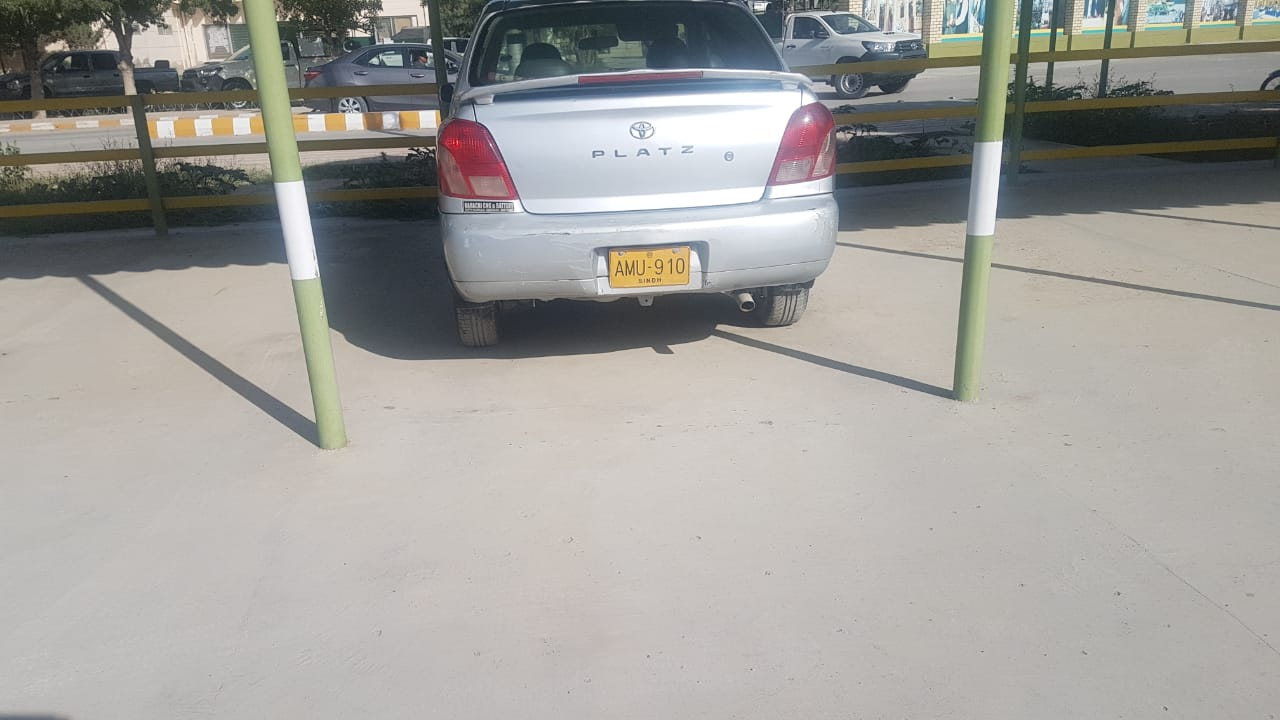license plate: (607, 245, 690, 288)
